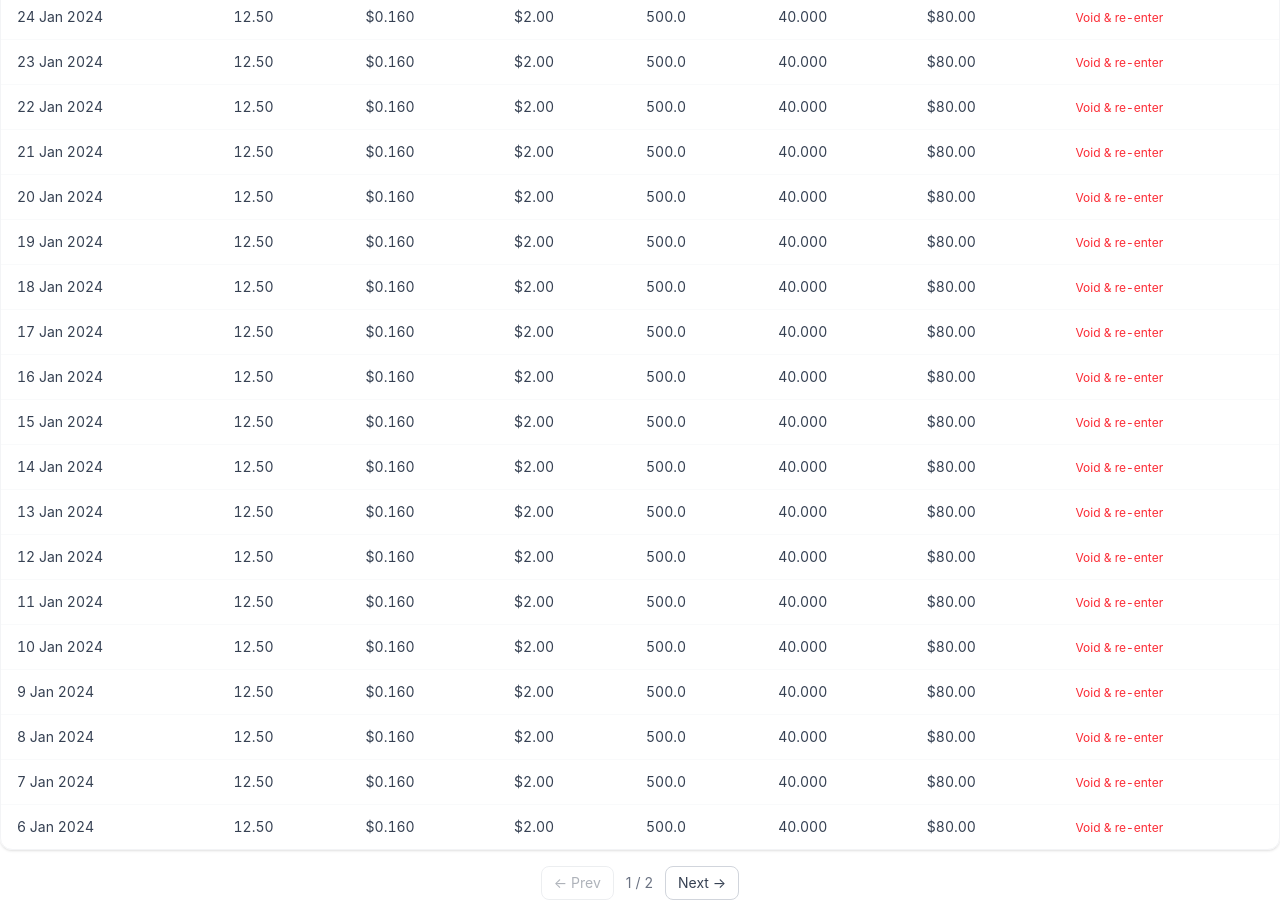
Test: FillsTable › paginates with 25 per page — Prev disabled on page 1, Next disabled on last
(page scrolled)
Check: the button "← Prev" is disabled, box x1=541 y1=866 x2=614 y2=899
What coordinates should you click on to do the following:
click the button "Next →"
I would click on:
 (702, 883)
Its box is x1=665 y1=866 x2=739 y2=899.
(page scrolled)
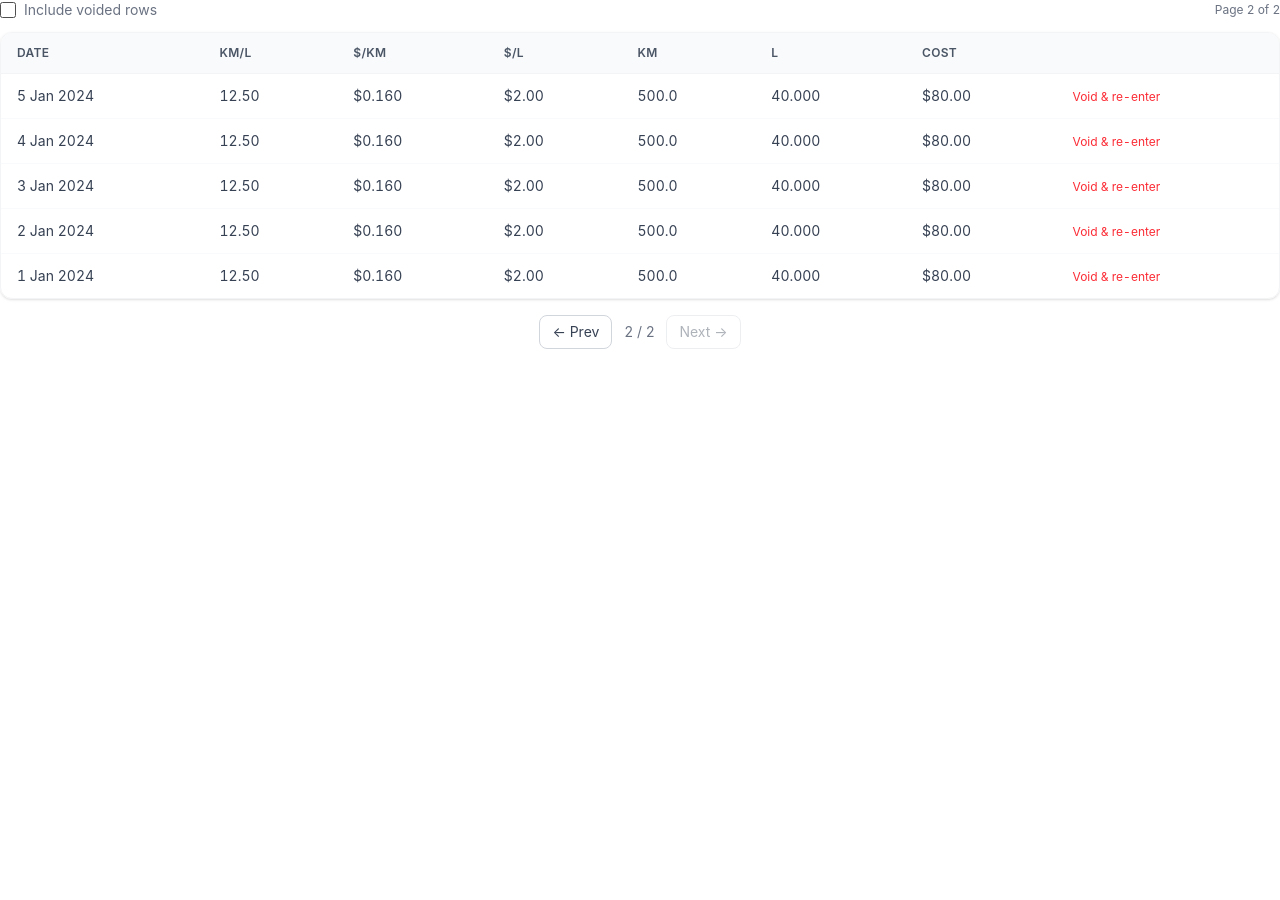
Check: the button "← Prev" is enabled, box x1=539 y1=315 x2=612 y2=349
Check: the button "Next →" is disabled, box x1=666 y1=315 x2=741 y2=349
